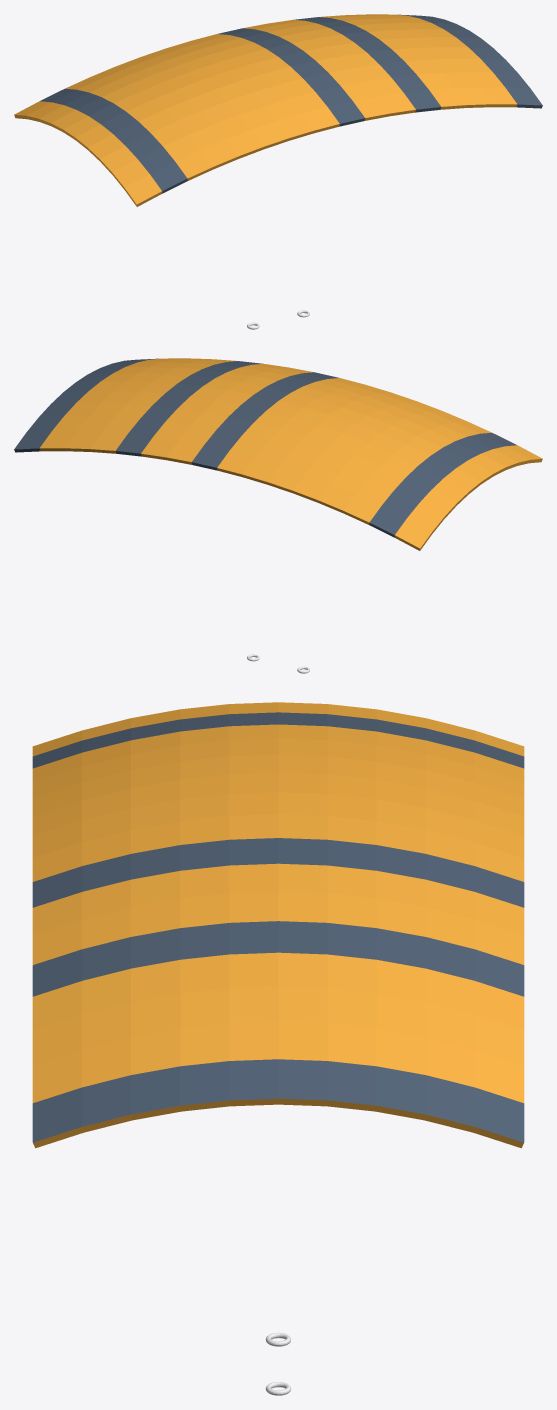
The model's file is prop_parachute.glb.
3 views of the same model, one above another, from view 1: azimuth 30°, elevation 25°; view 2: azimuth 150°, elevation 25°; view 3: azimuth 270°, elevation 25° (orthographic). The views are drawn at different scales.
Parts seen in each view (by area): view 1: Prop_Parachute; view 2: Prop_Parachute; view 3: Prop_Parachute.
Part boxes in pixels (bbox=[...]): Prop_Parachute: bbox=[14, 14, 542, 329]; Prop_Parachute: bbox=[14, 358, 542, 673]; Prop_Parachute: bbox=[32, 702, 524, 1395].
Bounding box in the file's own units: 4.2 × 2.61 × 2.2.
